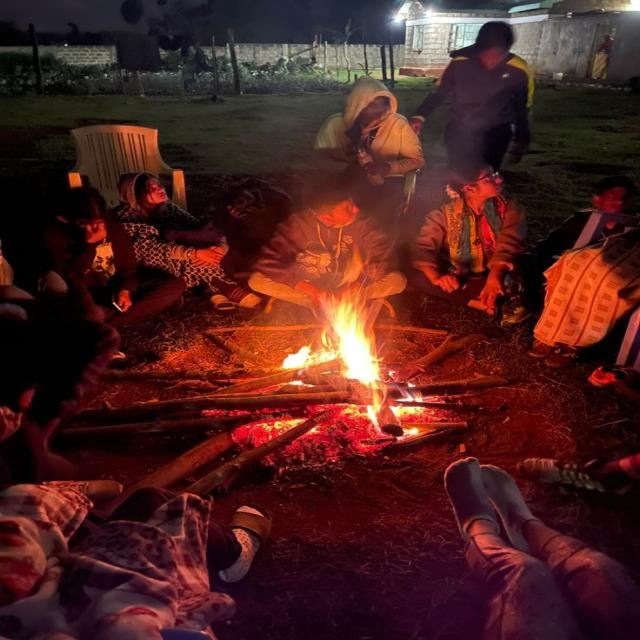fire: (314, 289, 383, 388), (366, 404, 426, 440), (281, 344, 339, 368)
